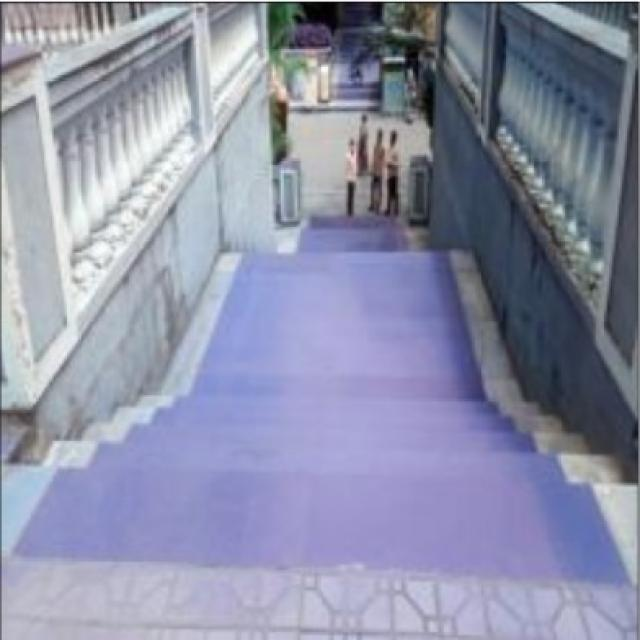stair: (148, 362, 516, 526)
